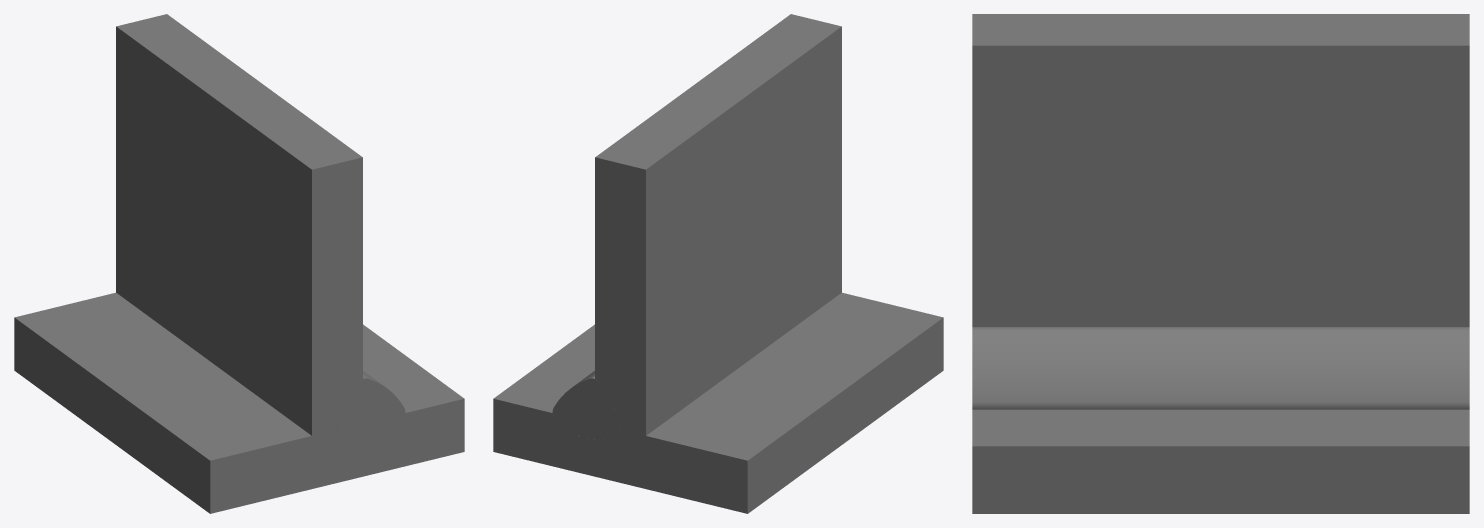
The picture shows the model from 3 angles, left to right: view 1: azimuth 30°, elevation 25°; view 2: azimuth 150°, elevation 25°; view 3: azimuth 270°, elevation 25°; orthographic projection. The views are drawn at different scales.
Parts seen in each view (by area): view 1: mesh_id4, mesh_id5; view 2: mesh_id4, mesh_id5; view 3: mesh_id4, mesh_id5.
Boxes of the visible parts, x1,y1,x2,y2 form: mesh_id4: (14, 14, 464, 513); mesh_id5: (337, 371, 405, 439); mesh_id4: (493, 14, 943, 513); mesh_id5: (552, 371, 620, 439); mesh_id4: (972, 14, 1469, 513); mesh_id5: (972, 327, 1469, 409).
Size of the model in its own units: 0.4267 by 0.512 by 0.5689.
2 materials, 2 textured.
